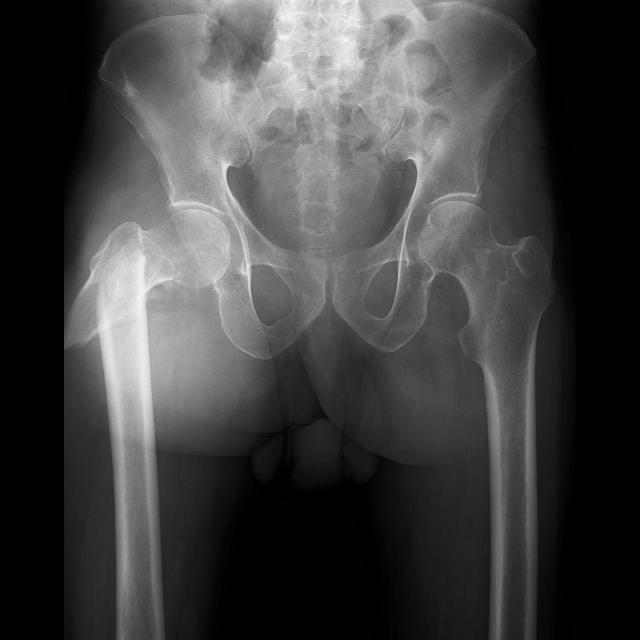fractured: (64, 232, 149, 351)
